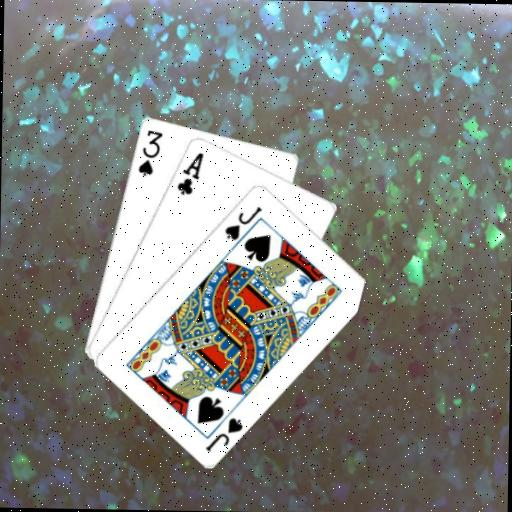3S: (135, 126, 165, 177)
AC: (173, 149, 205, 197)
JS: (202, 413, 245, 454), (222, 202, 264, 242)
